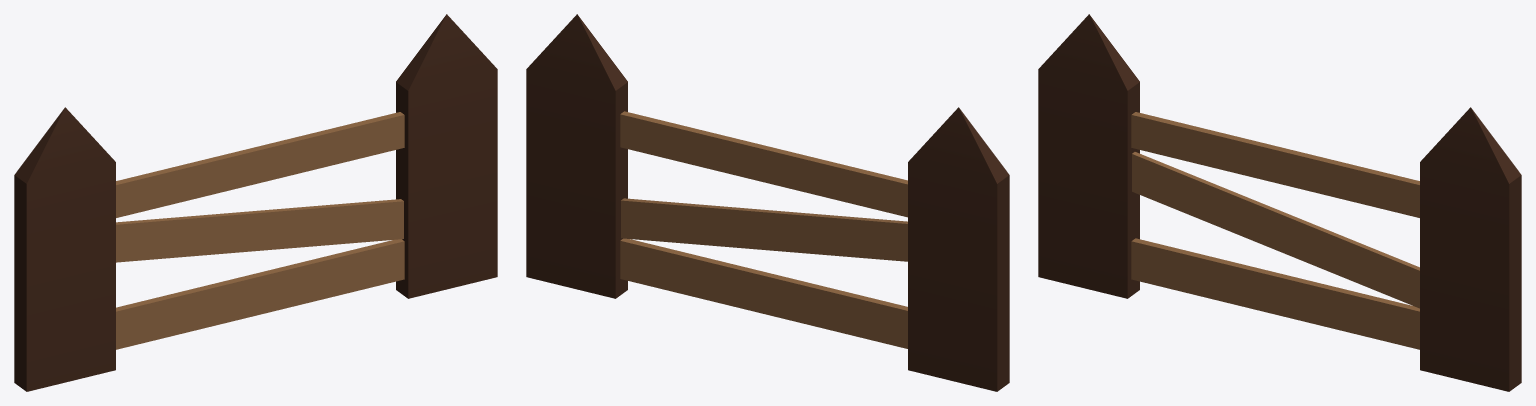
Rendered from CIT.fbx.
The picture shows the model from 3 angles, left to right: view 1: azimuth 30°, elevation 25°; view 2: azimuth 150°, elevation 25°; view 3: azimuth 330°, elevation 25°; orthographic projection.
Parts seen in each view (by area): view 1: Plane.001; view 2: Plane.001; view 3: Plane.001.
Part boxes in pixels (box(x1,y1,x2,y2)): Plane.001: box(14, 14, 497, 391); Plane.001: box(526, 14, 1009, 391); Plane.001: box(1038, 14, 1521, 391).
Bounding box in the file's own units: 0.0203 × 0.0111 × 0.000928.
